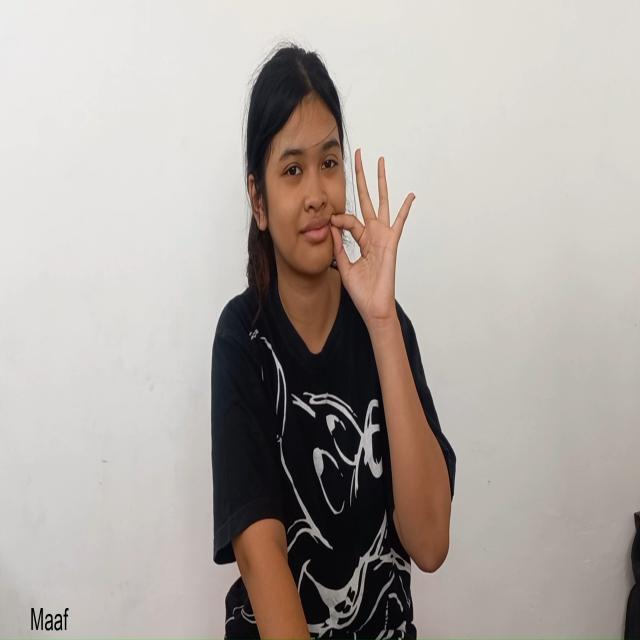Maaf -BISINDO-: (240, 32, 418, 386)
